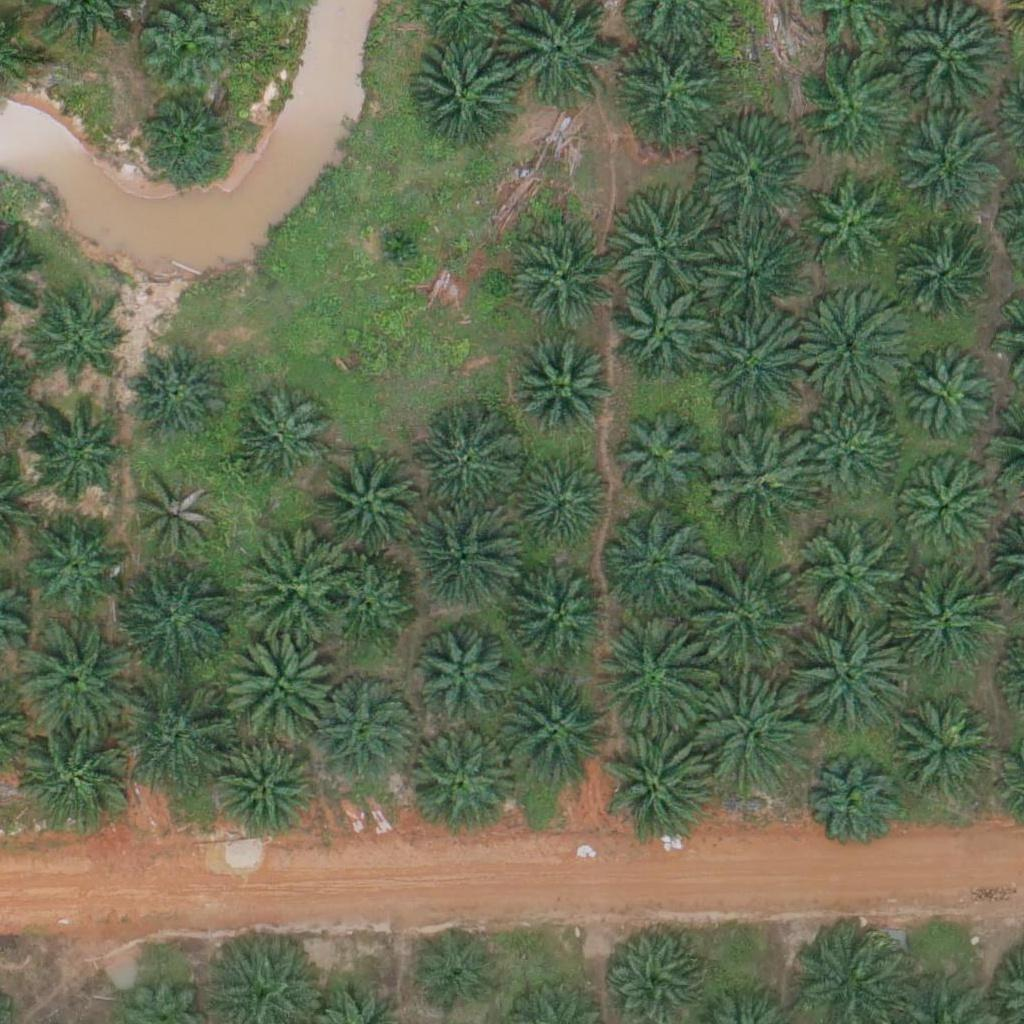Kelapa_Sawit: (792, 289, 905, 403), (701, 305, 814, 419), (695, 682, 808, 796), (592, 622, 705, 736), (408, 723, 521, 837), (495, 675, 608, 789), (893, 5, 1006, 118), (887, 563, 1000, 676), (797, 524, 910, 637), (706, 423, 819, 536), (406, 44, 519, 157), (407, 502, 520, 615), (19, 723, 132, 836), (798, 52, 910, 166), (599, 506, 711, 620), (889, 700, 1001, 813), (799, 621, 911, 734), (699, 127, 811, 240), (688, 556, 800, 669), (604, 733, 716, 846), (610, 35, 722, 148), (610, 183, 722, 296), (312, 446, 424, 559), (235, 529, 347, 642), (222, 627, 334, 740), (124, 682, 236, 795), (120, 561, 232, 674), (18, 623, 130, 736), (899, 121, 999, 222), (894, 461, 994, 562), (800, 176, 900, 277), (611, 411, 711, 512), (612, 281, 712, 382), (413, 632, 513, 733), (314, 676, 414, 777), (228, 387, 328, 488), (24, 407, 124, 508), (891, 235, 991, 335), (802, 408, 902, 508), (702, 224, 802, 324), (513, 232, 613, 332), (514, 341, 614, 441), (514, 457, 614, 557), (510, 573, 610, 673), (416, 417, 516, 517), (213, 739, 313, 839), (134, 89, 234, 189), (125, 342, 225, 442), (24, 511, 124, 611), (904, 355, 992, 444), (412, 927, 500, 1015), (324, 560, 412, 648), (807, 762, 894, 850), (134, 473, 221, 561), (36, 303, 123, 391), (371, 219, 421, 270)
